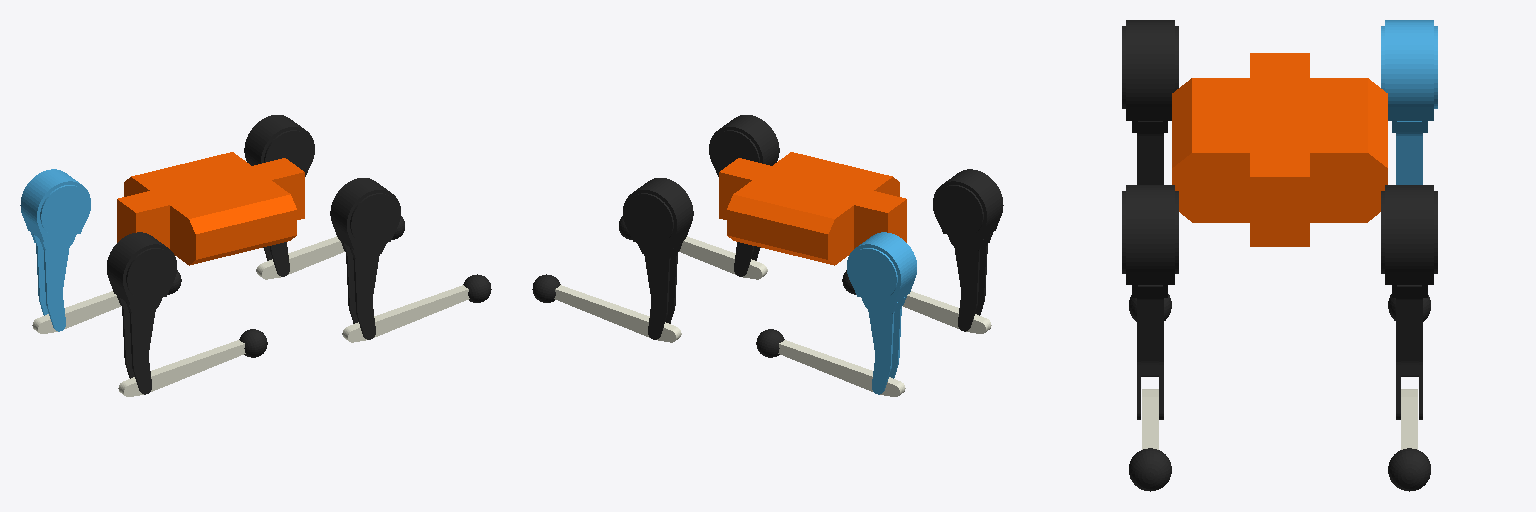
The robot description file, URDF, robot "rbq3":
<?xml version="1.0" encoding="utf-8"?>

<robot name="rbq3">

  <!-- ========================== Materials ========================== -->
  <material name="black">
    <color rgba="0.0 0.0 0.0 1.0"/>
  </material>
  <material name="blue">
    <color rgba="0.0 0.0 0.8 1.0"/>
  </material>
  <material name="green">
    <color rgba="0.0 0.8 0.0 1.0"/>
  </material>
  <material name="grey">
    <color rgba="0.2 0.2 0.2 1.0"/>
  </material>
  <material name="silver">
    <color rgba="0.913725490196 0.913725490196 0.847058823529 1.0"/>
  </material>
  <material name="orange">
    <color rgba="1.0 0.423529411765 0.0392156862745 1.0"/>
  </material>
  <material name="brown">
    <color rgba="0.870588235294 0.811764705882 0.764705882353 1.0"/>
  </material>
  <material name="red">
    <color rgba="0.8 0.0 0.0 1.0"/>
  </material>
  <material name="white">
    <color rgba="1.0 1.0 1.0 1.0"/>
  </material>

  <!-- ========================== World ========================== -->
  <link name="world">
  </link>

  <joint name="world_joint" type="fixed">
    <origin rpy="0 0 0" xyz="0 0 0"/>
    <parent link="world"/>
    <child link="trunk"/>
  </joint>

  <!-- ========================== Torso ========================== -->
  <link name="trunk">
    <visual>
	  <origin rpy="0 0 0" xyz="0 0 0"/>
      <geometry>
		    <mesh filename="package://rbq3_description/meshes/trunk1.dae" scale="1 1 1"/>
      </geometry>
      <material name="orange"/>
    </visual>
    <collision>
      <origin rpy="0 0 0" xyz="0 0 0.0084"/>
      <geometry>
        <box size="0.3 0.15 0.0168"/>
      </geometry>
    </collision>
    <inertial>
      <origin rpy="0 0 0" xyz="-0.34e-03 -0.01e-03 -3.57e-03"/>
      <mass value="11.5756"/>
      <inertia ixx="66750053.32e-09" ixy="-63531.87e-09" ixz="-79250.07e-09" iyy="124905646.11e-09" iyz="-22005.65e-09" izz="177312065.71e-09"/>
    </inertial>
  </link>
  
  <joint name="hip_fixed" type="fixed">
    <origin rpy="0 0 0" xyz="0 0 0"/>
    <parent link="trunk"/>
    <child link="hip_roll_motor"/>
  </joint>

  <!-- this link is only for collision -->
  <link name="hip_roll_motor">
    <visual>
	  <origin rpy="0 0 0" xyz="0 0 0"/>
      <geometry>
		<mesh filename="package://rbq3_description/meshes/trunk2.stl" scale="1 1 1"/>
      </geometry>
      <material name="orange"/>
    </visual>
  </link>

  <joint name="imu_joint" type="fixed">
     <parent link="trunk"/>
     <child link="imu_link"/>
     <origin rpy="0 0 0" xyz="-0.1275 0.015 -0.02"/>
  </joint>

  <link name="imu_link">
    <inertial>
      <mass value="0.001"/>
      <origin rpy="0 0 0" xyz="0 0 0"/>
      <inertia ixx="0.0001" ixy="0" ixz="0" iyy="0.000001" iyz="0" izz="0.0001"/>
    </inertial>
    <visual>
      <origin rpy="0 0 0" xyz="0 0 0"/>
      <geometry>
        <box size="0.001 0.001 0.001"/>
      </geometry>
      <material name="red"/>
    </visual>
  </link>
  
  <!-- ========================== Rear Right ========================== -->
  <joint name="RR_hip_joint" type="revolute">
    <origin rpy="0 0 0" xyz="-0.22445 -0.07946 0"/>
    <parent link="trunk"/>
    <child link="RR_hip"/>
    <axis xyz="1 0 0"/>
    <dynamics rotor_inertia="0.00008" damping="0" friction="0"/>
    <limit effort="20" lower="-6.28" upper="6.28" velocity="52.4"/>
  </joint>
  
  <link name="RR_hip">
    <visual>
      <origin rpy="3.14159265359 3.14159265359 0" xyz="0 0 0"/>
      <geometry>
        <mesh filename="package://rbq3_description/meshes/hip.stl" scale="1 1 1"/>
      </geometry>
      <material name="grey"/>
    </visual>
    <collision>
      <origin rpy="1.57079632679 0 0" xyz="0 0.021 0"/>
      <geometry>
        <cylinder length="0.089" radius="0.0445"/>
      </geometry>
    </collision>
    <inertial>
      <origin rpy="0 0 0" xyz="4.51e-03 -17.58e-03 0.04e-03"/>
      <mass value="2.38674"/>
      <inertia ixx="3437636.42e-09" ixy="120456.91e-09" ixz="-569.13e-09" iyy="2718636.62e-09" iyz="-3826.95e-09" izz="3437712.56e-09"/>
    </inertial>
  </link>

  <joint name="RR_thigh_joint" type="revolute">
    <origin rpy="0 0 0" xyz="0 -0.06995 0"/>
    <parent link="RR_hip"/>
    <child link="RR_thigh"/>
    <axis xyz="0 1 0"/>
    <dynamics rotor_inertia="0.000065" damping="0" friction="0"/>
    <limit effort="30" lower="-6.28" upper="6.28" velocity="28.6"/>
  </joint>

  <link name="RR_thigh">
    <visual>
      <origin rpy="0 0 0" xyz="0 0 0"/>
      <geometry>
        <mesh filename="package://rbq3_description/meshes/thigh.dae" scale="1 1 1"/>
      </geometry>
      <material name="grey"/>
    </visual>
    <collision>
      <origin rpy="0 1.57079632679 0" xyz="0 0 -0.1125"/>
      <geometry>
        <box size="0.225 0.04 0.04"/>
      </geometry>
    </collision>
    <inertial>
      <origin rpy="0 0 0" xyz="-2.26e-03 -7.68e-03 -41.12e-03"/>
      <mass value="0.67231"/>
      <inertia ixx="3146944.77e-09" ixy="-4356.11e-09" ixz="98512.25e-09" iyy="3429086.75e-09" iyz="-158744.35e-09" izz="636166.40e-09"/>
    </inertial>
  </link>

  <joint name="RR_calf_joint" type="revolute">
    <origin rpy="0 0 0" xyz="0 0 -0.225"/>
    <parent link="RR_thigh"/>
    <child link="RR_calf"/>
    <axis xyz="0 1 0"/>
    <dynamics rotor_inertia="0.00005" damping="0" friction="0"/>
    <limit effort="30" lower="-2.77507351067" upper="-0.610865238198" velocity="28.6"/>
  </joint>

  <link name="RR_calf">
    <visual>
      <origin rpy="0 0 0" xyz="0 0 0"/>
      <geometry>
        <mesh filename="package://rbq3_description/meshes/calf.stl" scale="1 1 1"/>
      </geometry>
      <material name="silver"/>
    </visual>
    <collision>
      <origin rpy="0 1.57079632679 0" xyz="0 0 -0.1125"/>
      <geometry>
        <box size="0.225 0.025 0.025"/>
      </geometry>
    </collision>
    <inertial>
      <origin rpy="0 0 0" xyz="0.75e-03 0.35e-03 -88.03e-03"/>
      <mass value="0.173"/>
      <inertia ixx="1256859.90e-09" ixy="13.94e-09" ixz="-1349.76e-09" iyy="1263569.86e-09" iyz="-10047.10e-09" izz="18848.54e-09"/>
    </inertial>
  </link>

  <joint name="RR_foot_fixed" type="fixed">
    <origin rpy="0 0 0" xyz="0 0 -0.225"/>
    <parent link="RR_calf"/>
    <child link="RR_foot"/>
  </joint>

  <link name="RR_foot">
    <visual>
      <origin rpy="0 0 0" xyz="0 0 0"/>
      <geometry>
        <sphere radius="0.025"/>
      </geometry>
	  <material name="grey"/>
    </visual>
    <collision>
      <origin rpy="0 0 0" xyz="0 0 0"/>
      <geometry>
        <sphere radius="0.025"/>
      </geometry>
    </collision>
    <inertial>
      <!--<mass value="0.02003"/>-->
      <mass value="0.0"/>
      <inertia ixx="1930e-09" ixy="0.0" ixz="0.0" iyy="2895e-09" iyz="0.0" izz="1930e-09"/>
    </inertial>
  </link>

  <!-- ========================== Rear Left ========================== -->
  <joint name="RL_hip_joint" type="revolute">
    <origin rpy="0 0 0" xyz="-0.22445 0.07946 0"/>
    <parent link="trunk"/>
    <child link="RL_hip"/>
    <axis xyz="1 0 0"/>
    <dynamics rotor_inertia="0.00008" damping="0" friction="0"/>
    <limit effort="30" lower="-6.28" upper="6.28" velocity="52.4"/>
  </joint>

  <link name="RL_hip">
    <visual>
      <origin rpy="0 3.14159265359 0" xyz="0 0 0"/>
      <geometry>
        <mesh filename="package://rbq3_description/meshes/hip.stl" scale="1 1 1"/>
      </geometry>
      <material name="grey"/>
    </visual>
    <collision>
      <origin rpy="1.57079632679 0 0" xyz="0 -0.021 0"/>
      <geometry>
        <cylinder length="0.089" radius="0.0445"/>
      </geometry>
    </collision>
    <inertial>
      <origin rpy="0 0 0" xyz="4.51e-03 17.58e-03 0.04e-03"/>
      <mass value="2.38674"/>
      <inertia ixx="3437636.42e-09" ixy="-120456.91e-09" ixz="-569.13e-09" iyy="2718636.62e-09" iyz="3826.95e-09" izz="3437712.56e-09"/>
    </inertial>
  </link>

  <joint name="RL_thigh_joint" type="revolute">
    <origin rpy="0 0 0" xyz="0 0.06995 0"/>
    <parent link="RL_hip"/>
    <child link="RL_thigh"/>
    <axis xyz="0 1 0"/>
    <dynamics rotor_inertia="0.000065" damping="0" friction="0"/>
    <limit effort="30" lower="-6.28" upper="6.28" velocity="28.6"/>
  </joint>

  <link name="RL_thigh">
    <visual>
      <origin rpy="0 0 0" xyz="0 0 0"/>
      <geometry>
        <mesh filename="package://rbq3_description/meshes/thigh.dae" scale="1 1 1"/>
      </geometry>
    </visual>
    <collision>
      <origin rpy="0 1.57079632679 0" xyz="0 0 -0.1125"/>
      <geometry>
        <box size="0.225 0.04 0.04"/>
      </geometry>
    </collision>
    <inertial>
      <origin rpy="0 0 0" xyz="-2.26e-03 7.68e-03 -41.12e-03"/>
      <mass value="0.67231"/>
      <inertia ixx="3146944.77e-09" ixy="4356.11e-09" ixz="98512.25e-09" iyy="3429086.75e-09" iyz="158744.35e-09" izz="636166.40e-09"/>
    </inertial>
  </link>

  <joint name="RL_calf_joint" type="revolute">
    <origin rpy="0 0 0" xyz="0 0 -0.225"/>
    <parent link="RL_thigh"/>
    <child link="RL_calf"/>
    <axis xyz="0 1 0"/>
    <dynamics rotor_inertia="0.00005" damping="0" friction="0"/>
    <limit effort="30" lower="-2.77507351067" upper="-0.610865238198" velocity="28.6"/>
  </joint>

  <link name="RL_calf">
    <visual>
      <origin rpy="0 0 0" xyz="0 0 0"/>
      <geometry>
        <mesh filename="package://rbq3_description/meshes/calf.stl" scale="1 1 1"/>
      </geometry>
      <material name="silver"/>
    </visual>
    <collision>
      <origin rpy="0 1.57079632679 0" xyz="0 0 -0.125"/>
      <geometry>
        <box size="0.225 0.025 0.025"/>
      </geometry>
    </collision>
    <inertial>
      <origin rpy="0 0 0" xyz="0.75e-03 0.35e-03 -88.03e-03"/>
      <mass value="0.173"/>
      <inertia ixx="1256859.90e-09" ixy="13.94e-09" ixz="-1349.76e-09" iyy="1263569.86e-09" iyz="-10047.10e-09" izz="18848.54e-09"/>
    </inertial>
  </link>

  <joint name="RL_foot_fixed" type="fixed">
    <origin rpy="0 0 0" xyz="0 0 -0.225"/>
    <parent link="RL_calf"/>
    <child link="RL_foot"/>
  </joint>

  <link name="RL_foot">
    <visual>
      <origin rpy="0 0 0" xyz="0 0 0"/>
      <geometry>
        <sphere radius="0.025"/>
      </geometry>
	  <material name="grey"/>
    </visual>
    <collision>
      <origin rpy="0 0 0" xyz="0 0 0"/>
      <geometry>
        <sphere radius="0.025"/>
      </geometry>
    </collision>
    <inertial>
      <!--<mass value="0.02003"/>-->
      <mass value="0.0"/>
      <inertia ixx="1930e-09" ixy="0.0" ixz="0.0" iyy="2895e-09" iyz="0.0" izz="1930e-09"/>
    </inertial>
  </link>

  <!-- ========================== Front Right ========================== -->
  <joint name="FR_hip_joint" type="revolute">
    <origin rpy="0 0 0" xyz="0.22445 -0.07946 0"/>
    <parent link="trunk"/>
    <child link="FR_hip"/>
    <axis xyz="1 0 0"/>
    <dynamics rotor_inertia="0.00008" damping="0" friction="0"/>
    <limit effort="30" lower="-6.28" upper="6.28" velocity="52.4"/>
  </joint>

  <link name="FR_hip">
    <visual>
      <origin rpy="3.14159265359 0 0" xyz="0 0 0"/>
      <geometry>
        <mesh filename="package://rbq3_description/meshes/hip.stl" scale="1 1 1"/>
      </geometry>
      <material name="grey"/>
    </visual>
    <collision>
      <origin rpy="1.57079632679 0 0" xyz="0 0.021 0"/>
      <geometry>
        <cylinder length="0.089" radius="0.0445"/>
      </geometry>
    </collision>
    <inertial>
      <origin rpy="0 0 0" xyz="-4.51e-03 -17.58e-03 0.04e-03"/>
      <mass value="2.38674"/>
      <inertia ixx="3437636.42e-09" ixy="-120456.91e-09" ixz="569.13e-09" iyy="2718636.62e-09" iyz="-3826.95e-09" izz="3437712.56e-09"/>
    </inertial>
  </link>

  <joint name="FR_thigh_joint" type="revolute">
    <origin rpy="0 0 0" xyz="0 -0.06995 0"/>
    <parent link="FR_hip"/>
    <child link="FR_thigh"/>
    <axis xyz="0 1 0"/>
    <dynamics rotor_inertia="0.000065" damping="0" friction="0"/>
    <limit effort="30" lower="-6.28" upper="6.28" velocity="28.6"/>
  </joint>

  <link name="FR_thigh">
    <visual>
      <origin rpy="0 0 0" xyz="0 0 0"/>
      <geometry>
        <mesh filename="package://rbq3_description/meshes/thigh.dae" scale="1 1 1"/>
      </geometry>
      <material name="grey"/>
    </visual>
    <collision>
      <origin rpy="0 1.57079632679 0" xyz="0 0 -0.1125"/>
      <geometry>
        <box size="0.225 0.04 0.04"/>
      </geometry>
    </collision>
    <inertial>
      <origin rpy="0 0 0" xyz="-2.26e-03 -7.68e-03 -41.12e-03"/>
      <mass value="0.67231"/>
      <inertia ixx="3146944.77e-09" ixy="-4356.11e-09" ixz="98512.25e-09" iyy="3429086.75e-09" iyz="-158744.35e-09" izz="636166.40e-09"/>
    </inertial>
  </link>

  <joint name="FR_calf_joint" type="revolute">
    <origin rpy="0 0 0" xyz="0 0 -0.225"/>
    <parent link="FR_thigh"/>
    <child link="FR_calf"/>
    <axis xyz="0 1 0"/>
    <dynamics rotor_inertia="0.00005" damping="0" friction="0"/>
    <limit effort="30" lower="-2.77507351067" upper="-0.610865238198" velocity="28.6"/>
  </joint>

  <link name="FR_calf">
    <visual>
      <origin rpy="0 0 0" xyz="0 0 0"/>
      <geometry>
        <mesh filename="package://rbq3_description/meshes/calf.stl" scale="1 1 1"/>
      </geometry>
      <material name="silver"/>
    </visual>
    <collision>
      <origin rpy="0 1.57079632679 0" xyz="0 0 -0.1125"/>
      <geometry>
        <box size="0.225 0.025 0.025"/>
      </geometry>
    </collision>
    <inertial>
      <origin rpy="0 0 0" xyz="0.75e-03 0.35e-03 -88.03e-03"/>
      <mass value="0.173"/>
      <inertia ixx="1256859.90e-09" ixy="13.94e-09" ixz="-1349.76e-09" iyy="1263569.86e-09" iyz="-10047.10e-09" izz="18848.54e-09"/>
    </inertial>
  </link>

  <joint name="FR_foot_fixed" type="fixed">
    <origin rpy="0 0 0" xyz="0 0 -0.225"/>
    <parent link="FR_calf"/>
    <child link="FR_foot"/>
  </joint>

  <link name="FR_foot">
    <visual>
      <origin rpy="0 0 0" xyz="0 0 0"/>
      <geometry>
        <sphere radius="0.025"/>
      </geometry>
	  <material name="grey"/>
    </visual>
    <collision>
      <origin rpy="0 0 0" xyz="0 0 0"/>
      <geometry>
        <sphere radius="0.025"/>
      </geometry>
    </collision>
    <inertial>
      <!--<mass value="0.02003"/>-->
      <mass value="0.0"/>
      <inertia ixx="1930e-09" ixy="0.0" ixz="0.0" iyy="2895e-09" iyz="0.0" izz="1930e-09"/>
    </inertial>
  </link>

  <!-- ========================== Front Left ========================== -->
  <joint name="FL_hip_joint" type="revolute">
    <origin rpy="0 0 0" xyz="0.22445 0.07946 0"/>
    <parent link="trunk"/>
    <child link="FL_hip"/>
    <axis xyz="1 0 0"/>
    <dynamics rotor_inertia="0.00008" damping="0" friction="0"/>
    <limit effort="30" lower="-6.28" upper="6.28" velocity="52.4"/>
  </joint>

  <link name="FL_hip">
    <visual>
      <origin rpy="0 0 0" xyz="0 0 0"/>
      <geometry>
        <mesh filename="package://rbq3_description/meshes/hip.stl" scale="1 1 1"/>
      </geometry>
      <material name="grey"/>
    </visual>
    <collision>
      <origin rpy="1.57079632679 0 0" xyz="0 -0.021 0"/>
      <geometry>
        <cylinder length="0.089" radius="0.0445"/>
      </geometry>
    </collision>
    <inertial>
      <origin rpy="0 0 0" xyz="-4.51e-03 17.58e-03 0.04e-03"/>
      <mass value="2.38674"/>
      <inertia ixx="3437636.42e-09" ixy="120456.91e-09" ixz="569.13e-09" iyy="2718636.62e-09" iyz="3826.95e-09" izz="3437712.56e-09"/>
    </inertial>
  </link>

  <joint name="FL_thigh_joint" type="revolute">
    <origin rpy="0 0 0" xyz="0 0.06995 0"/>
    <parent link="FL_hip"/>
    <child link="FL_thigh"/>
    <axis xyz="0 1 0"/>
    <dynamics rotor_inertia="0.000065" damping="0" friction="0"/>
    <limit effort="30" lower="-6.28" upper="6.28" velocity="28.6"/>
  </joint>

  <link name="FL_thigh">
    <visual>
      <origin rpy="0 0 0" xyz="0 0 0"/>
      <geometry>
        <mesh filename="package://rbq3_description/meshes/thigh.dae" scale="1 1 1"/>
      </geometry>
      <material name="grey"/>
    </visual>
    <collision>
      <origin rpy="0 1.57079632679 0" xyz="0 0 -0.1125"/>
      <geometry>
        <box size="0.225 0.04 0.04"/>
      </geometry>
    </collision>
    <inertial>
      <origin rpy="0 0 0" xyz="-2.26e-03 7.68e-03 -41.12e-03"/>
      <mass value="0.67231"/>
      <inertia ixx="3146944.77e-09" ixy="4356.11e-09" ixz="98512.25e-09" iyy="3429086.75e-09" iyz="158744.35e-09" izz="636166.40e-09"/>
    </inertial>
  </link>

  <joint name="FL_calf_joint" type="revolute">
    <origin rpy="0 0 0" xyz="0 0 -0.225"/>
    <parent link="FL_thigh"/>
    <child link="FL_calf"/>
    <axis xyz="0 1 0"/>
    <dynamics rotor_inertia="0.00005" damping="0" friction="0"/>
    <limit effort="30" lower="-2.77507351067" upper="-0.610865238198" velocity="28.6"/>
  </joint>

  <link name="FL_calf">
    <visual>
      <origin rpy="0 0 0" xyz="0 0 0"/>
      <geometry>
        <mesh filename="package://rbq3_description/meshes/calf.stl" scale="1 1 1"/>
      </geometry>
      <material name="silver"/>
    </visual>
    <collision>
      <origin rpy="0 1.57079632679 0" xyz="0 0 -0.1125"/>
      <geometry>
        <box size="0.225 0.025 0.025"/>
      </geometry>
    </collision>
    <inertial>
      <origin rpy="0 0 0" xyz="0.75e-03 0.35e-03 -88.03e-03"/>
      <mass value="0.173"/>
      <inertia ixx="1256859.90e-09" ixy="13.94e-09" ixz="-1349.76e-09" iyy="1263569.86e-09" iyz="-10047.10e-09" izz="18848.54e-09"/>
    </inertial>
  </link>

  <joint name="FL_foot_fixed" type="fixed">
    <origin rpy="0 0 0" xyz="0 0 -0.225"/>
    <parent link="FL_calf"/>
    <child link="FL_foot"/>
  </joint>

  <link name="FL_foot">
    <visual>
      <origin rpy="0 0 0" xyz="0 0 0"/>
      <geometry>
        <sphere radius="0.025"/>
      </geometry>
	  <material name="grey"/>
    </visual>
    <collision>
      <origin rpy="0 0 0" xyz="0 0 0"/>
      <geometry>
        <sphere radius="0.025"/>
      </geometry>
    </collision>
    <inertial>
      <!--<mass value="0.02003"/>-->
      <mass value="0.0"/>
      <inertia ixx="1930e-09" ixy="0.0" ixz="0.0" iyy="2895e-09" iyz="0.0" izz="1930e-09"/>
    </inertial>
  </link>
  
</robot>

--- Render facts (derived) ---
The picture shows the robot from 3 angles, left to right: view 1: azimuth 30°, elevation 25°; view 2: azimuth 150°, elevation 25°; view 3: azimuth 270°, elevation 25°; orthographic projection.
Robot: rbq3 — 20 links, 19 joints (12 revolute, 7 fixed); root link world; default pose: joints at zero except 4 at the middle of their limits (RR_calf_joint = -1.69, RL_calf_joint = -1.69, FR_calf_joint = -1.69, FL_calf_joint = -1.69).
Visible links, largest first — view 1: trunk, RL_thigh, FR_thigh, RR_thigh, FL_thigh, RR_calf, FR_calf, RL_calf, FL_calf, RR_foot, FR_foot; view 2: trunk, RR_thigh, FL_thigh, RL_thigh, FR_thigh, RL_calf, FL_calf, RR_calf, FR_calf, RL_foot, FL_foot; view 3: trunk, FR_thigh, FL_thigh, RR_thigh, RL_thigh, FR_foot, FL_foot, FR_calf, FL_calf.
Link boxes in pixels (x1,y1,x2,y2): trunk: (117,152,304,265); RL_thigh: (20,169,90,331); FR_thigh: (330,178,400,339); RR_thigh: (107,232,176,394); FL_thigh: (244,115,314,276); RR_calf: (118,340,245,396); FR_calf: (342,285,469,342); RL_calf: (32,291,120,333); FL_calf: (256,236,344,279); RR_foot: (239,329,267,357); FR_foot: (463,274,491,302); trunk: (719,152,906,265); RR_thigh: (933,169,1003,331); FL_thigh: (623,178,693,339); RL_thigh: (847,232,916,394); FR_thigh: (709,115,779,276); RL_calf: (778,340,905,396); FL_calf: (554,285,681,342); RR_calf: (903,291,991,333); FR_calf: (679,236,767,279); RL_foot: (756,329,784,357); FL_foot: (532,274,560,302); trunk: (1172,53,1387,246); FR_thigh: (1122,185,1178,419); FL_thigh: (1381,185,1437,419); RR_thigh: (1122,20,1178,184); RL_thigh: (1381,20,1437,184); FR_foot: (1129,448,1171,491); FL_foot: (1388,448,1430,491); FR_calf: (1142,389,1158,449); FL_calf: (1401,389,1417,449).
Bounding box of the posed robot: 0.7516 × 0.3638 × 0.2945 m (x, y, z).
Meshes: 5 distinct files referenced, 9 mesh visuals loaded (1 binary STL, 2 Collada DAE); not drawn: 5 (reference not matched to a file when rendering).